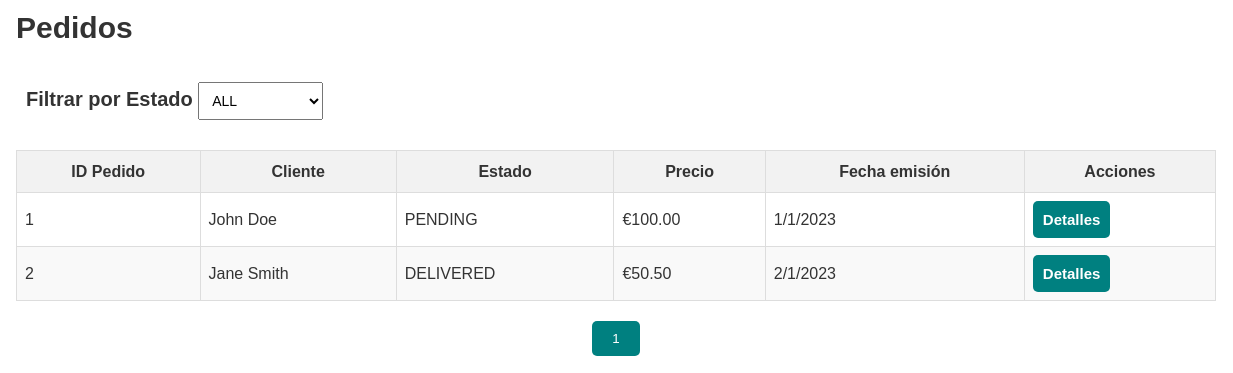
Scenario: AdminOrderPage Component › debería filtrar los pedidos por estado
This screenshot has width=1233, height=373.
Select "PENDING" in the dropdown labelled "Filtrar por Estado" at (261, 101), box [198, 82, 323, 120]
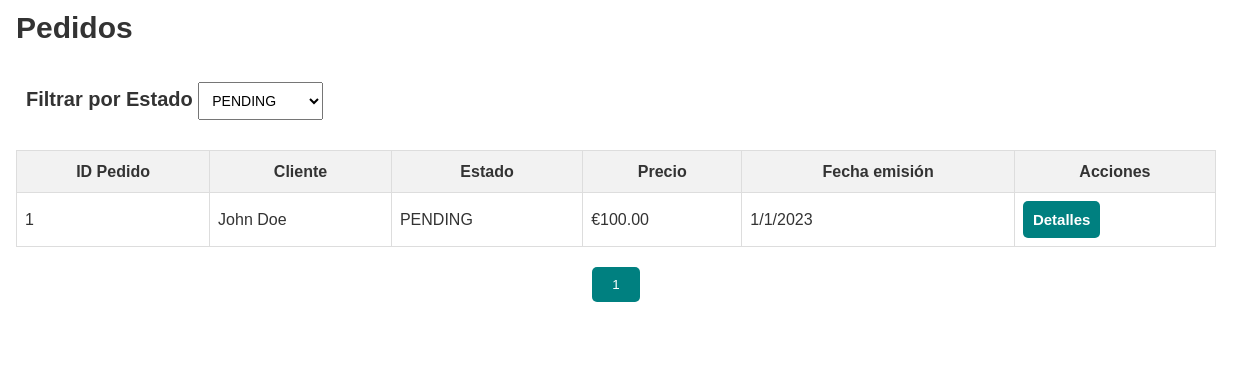
Check: the text "John Doe" is shown, box [210, 193, 391, 247]
Check: the number of rows is 2, box [16, 150, 1216, 193]; [16, 193, 1216, 247]
Check: the text "Jane Smith" is gone
